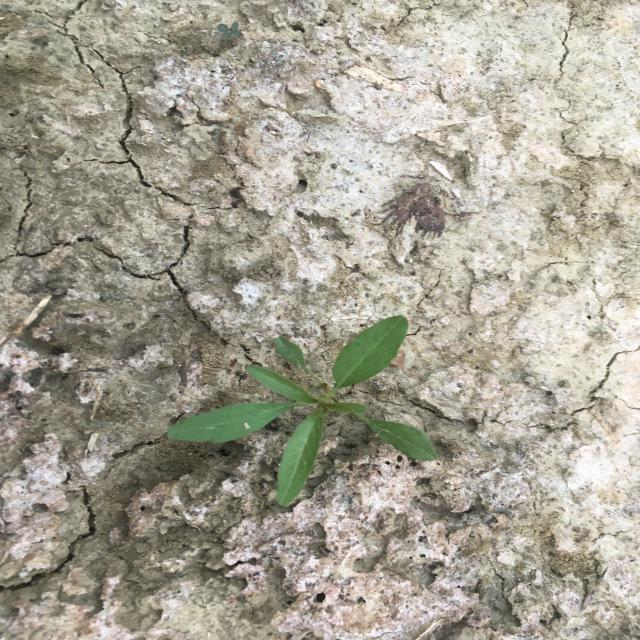Waterhemp: (166, 314, 442, 506)
